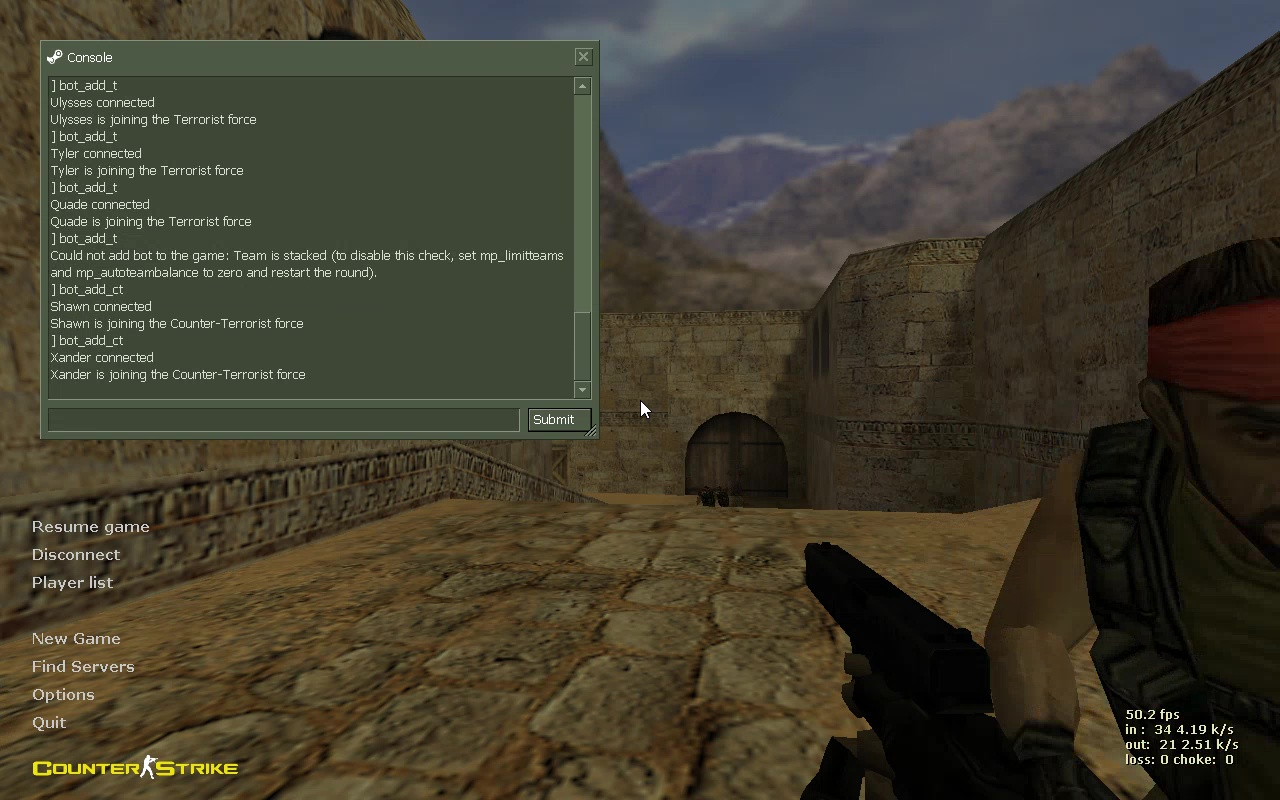terr1: (981, 237, 1278, 795), (695, 491, 713, 505), (717, 490, 730, 505)
